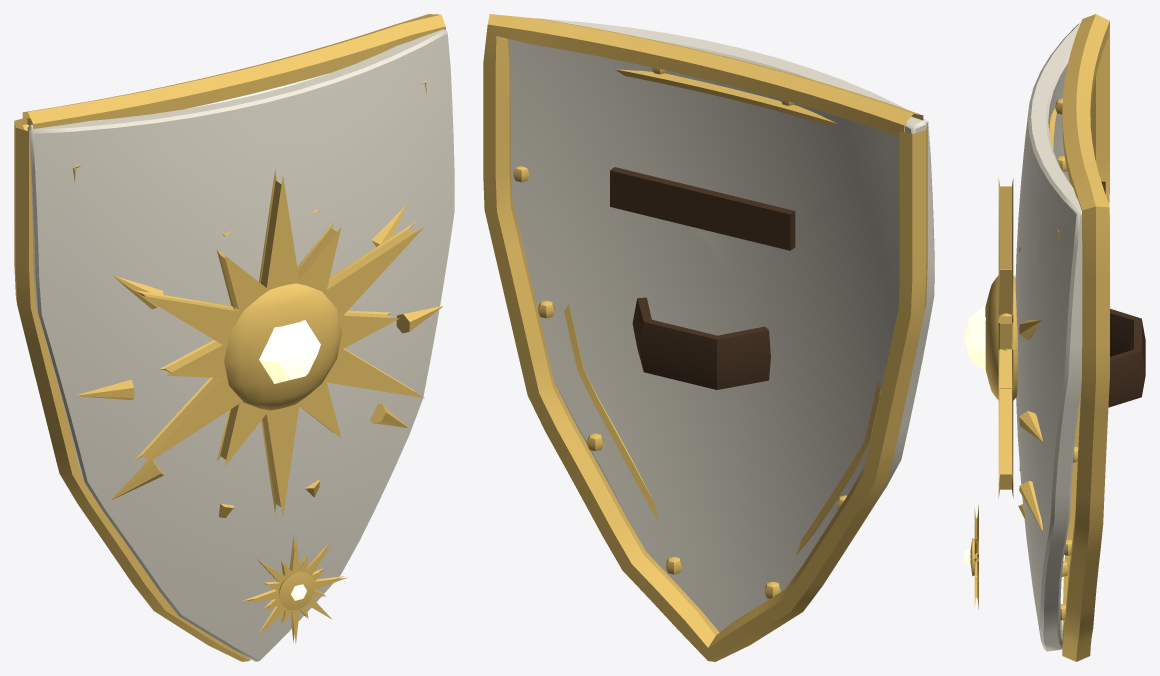
File: asc_seraph_paladin_shield.glb
3 renders of one model, left to right at view 1: azimuth 30°, elevation 25°; view 2: azimuth 150°, elevation 25°; view 3: azimuth 270°, elevation 25°, orthographic. The views are drawn at different scales.
Parts seen in each view (by area): view 1: asc_seraph_paladin_shield; view 2: asc_seraph_paladin_shield; view 3: asc_seraph_paladin_shield.
Boxes of the visible parts, x1,y1,x2,y2 form: asc_seraph_paladin_shield: [14, 14, 454, 661]; asc_seraph_paladin_shield: [483, 14, 934, 661]; asc_seraph_paladin_shield: [963, 14, 1145, 661].
Bounding box in the file's own units: 0.636 × 0.8354 × 0.2491.
